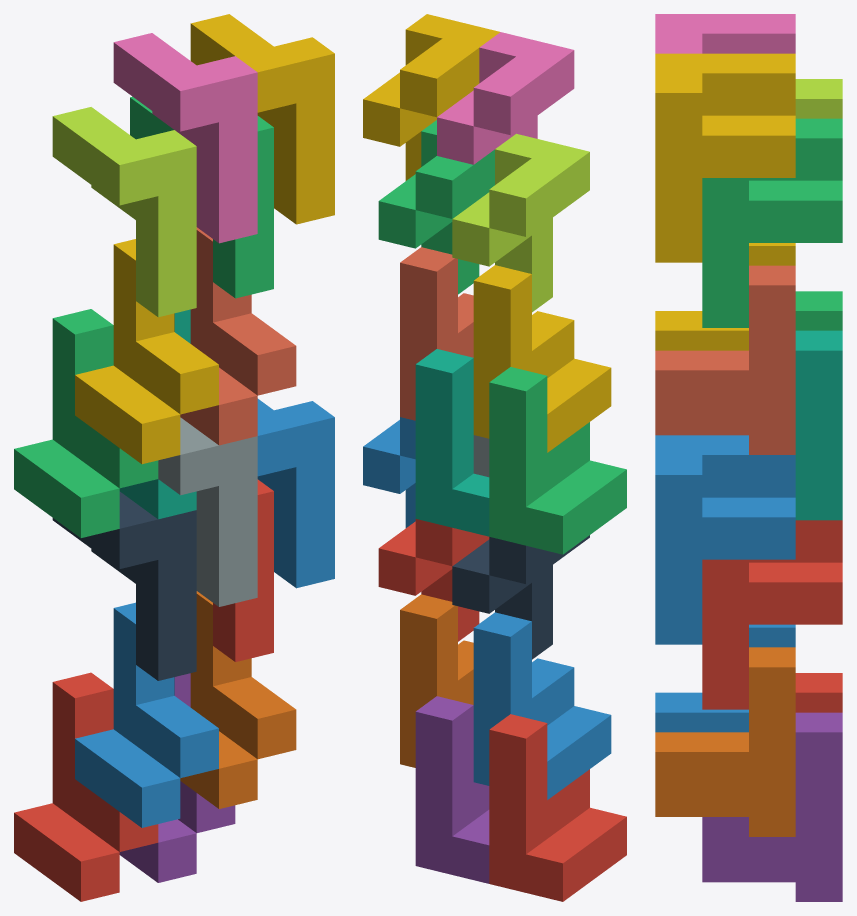
Rendered from tiling.obj.
3 views of the same model, side by side, from view 1: azimuth 30°, elevation 25°; view 2: azimuth 150°, elevation 25°; view 3: azimuth 270°, elevation 25° (orthographic). The views are drawn at different scales.
Parts seen in each view (by area): view 1: copy_2_domain_4, copy_2_domain_3, copy_1_domain_4, copy_1_domain_2, copy_2_domain_8, copy_1_domain_1, copy_1_domain_3, copy_2_domain_1, copy_2_domain_6, copy_2_domain_2, copy_1_domain_8, copy_1_domain_6 (+4 smaller); view 2: copy_1_domain_1, copy_1_domain_3, copy_1_domain_2, copy_1_domain_4, copy_2_domain_3, copy_1_domain_5, copy_1_domain_7, copy_2_domain_4, copy_2_domain_8, copy_2_domain_7, copy_1_domain_6, copy_1_domain_8 (+4 smaller); view 3: copy_2_domain_8, copy_2_domain_6, copy_1_domain_8, copy_1_domain_6, copy_2_domain_7, copy_2_domain_5, copy_1_domain_5, copy_1_domain_7, copy_2_domain_4, copy_1_domain_2, copy_1_domain_4, copy_1_domain_1 (+2 smaller).
Part boxes in pixels (x1,y1,x2,y2): copy_2_domain_4: (113, 33, 257, 243); copy_2_domain_3: (52, 107, 196, 317); copy_1_domain_4: (75, 239, 218, 464); copy_1_domain_2: (75, 602, 218, 827); copy_2_domain_8: (190, 14, 334, 224); copy_1_domain_1: (14, 672, 158, 901); copy_1_domain_3: (14, 309, 158, 537); copy_2_domain_1: (52, 491, 196, 680); copy_2_domain_6: (257, 398, 334, 588); copy_2_domain_2: (158, 417, 257, 606); copy_1_domain_8: (180, 227, 296, 445); copy_1_domain_6: (180, 591, 296, 808); copy_1_domain_1: (489, 714, 626, 901); copy_1_domain_3: (489, 367, 626, 554); copy_1_domain_2: (473, 612, 611, 799); copy_1_domain_4: (473, 265, 611, 452); copy_2_domain_3: (452, 133, 589, 312); copy_1_domain_5: (415, 696, 489, 883); copy_1_domain_7: (415, 349, 489, 536); copy_2_domain_4: (437, 32, 574, 164); copy_2_domain_8: (363, 14, 499, 180); copy_2_domain_7: (378, 120, 494, 294); copy_1_domain_6: (400, 594, 473, 767); copy_1_domain_8: (400, 247, 473, 420); copy_2_domain_8: (655, 53, 795, 262); copy_2_domain_6: (655, 435, 795, 644); copy_1_domain_8: (655, 265, 795, 454); copy_1_domain_6: (655, 647, 795, 836); copy_2_domain_7: (702, 118, 842, 327); copy_2_domain_5: (702, 520, 842, 709); copy_1_domain_5: (702, 712, 842, 901); copy_1_domain_7: (795, 330, 842, 520); copy_2_domain_4: (655, 14, 795, 53); copy_1_domain_2: (655, 624, 795, 732); copy_1_domain_4: (655, 243, 795, 350); copy_1_domain_1: (795, 673, 842, 712).
Bounding box in the file's own units: 6 × 20 × 4.
